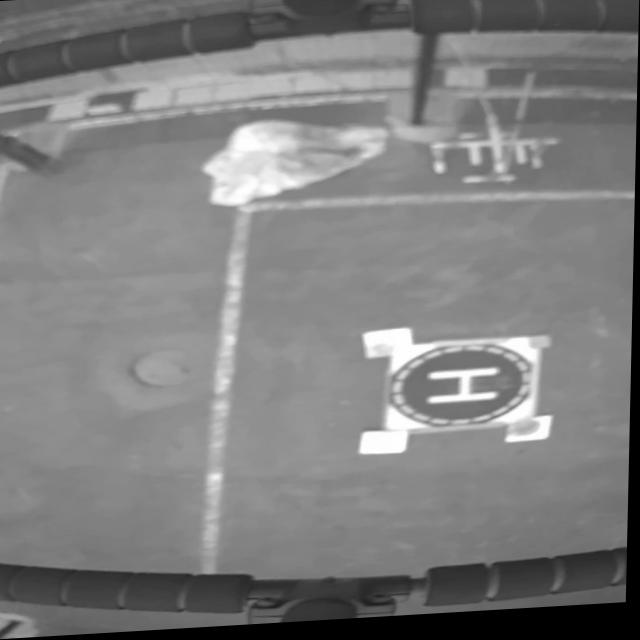Helipad: (429, 372, 502, 409)
